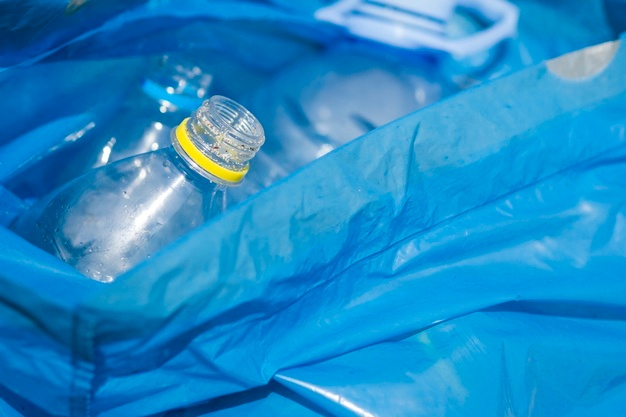plastic_bottle: (20, 43, 387, 383), (37, 33, 279, 265)
